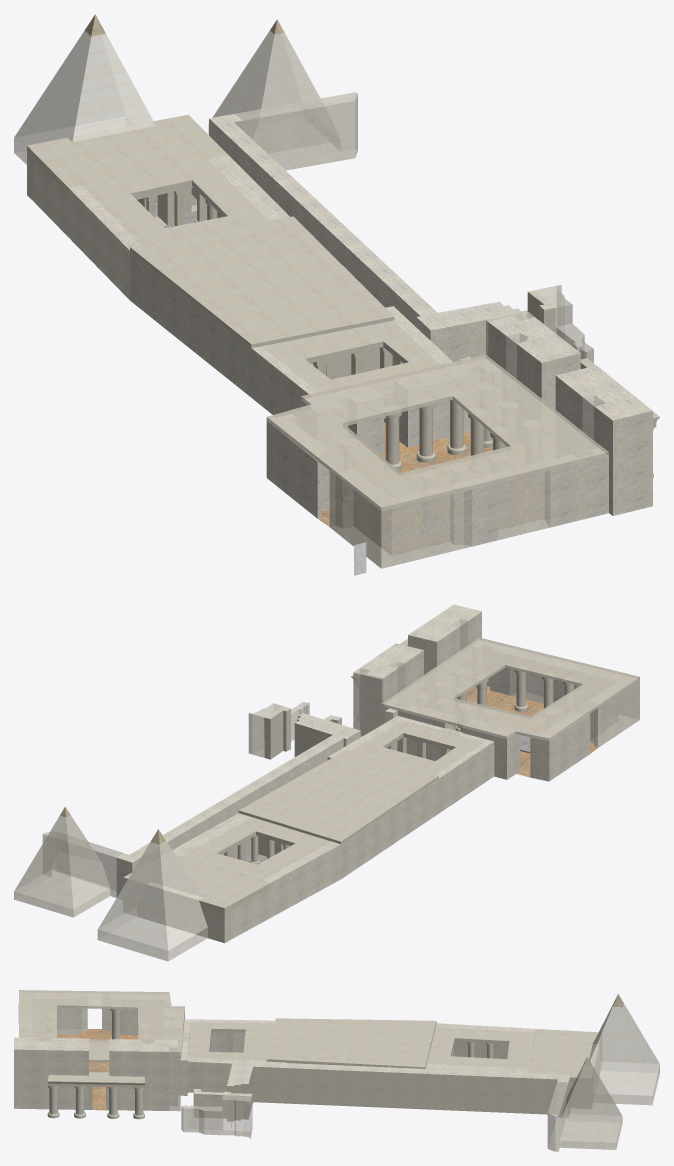
The picture shows the model from 3 angles, top to bottom: view 1: azimuth 30°, elevation 25°; view 2: azimuth 150°, elevation 25°; view 3: azimuth 270°, elevation 25°; orthographic projection. The views are drawn at different scales.
Visible parts, largest first — view 1: Mesh10 ROOF1 G_219_1 Model, Mesh54 Tomb_211_1 Model, Mesh30 G_219_1 Model, Mesh51 Roof_211_1 Tomb_211_1 Model, Mesh56 Model, Mesh37 UNKNOWN1 Tomb_211_1 Model, Mesh11 ROOF1 G_219_1 Model, Mesh39 UNKNOWN1 Tomb_211_1 Model, Mesh55 Model, Mesh58 Model, Mesh44 Round_Column_1_8 Tomb_211_1 Model, Mesh57 Model (+2 smaller); view 2: Mesh30 G_219_1 Model, Mesh10 ROOF1 G_219_1 Model, Mesh54 Tomb_211_1 Model, Mesh56 Model, Mesh51 Roof_211_1 Tomb_211_1 Model, Mesh11 ROOF1 G_219_1 Model, Mesh37 UNKNOWN1 Tomb_211_1 Model, Mesh55 Model, Mesh38 UNKNOWN1 Tomb_211_1 Model, Mesh39 UNKNOWN1 Tomb_211_1 Model, Mesh58 Model, Mesh57 Model; view 3: Mesh56 Model, Mesh10 ROOF1 G_219_1 Model, Mesh54 Tomb_211_1 Model, Mesh30 G_219_1 Model, Mesh51 Roof_211_1 Tomb_211_1 Model, Mesh11 ROOF1 G_219_1 Model, Mesh55 Model, Mesh37 UNKNOWN1 Tomb_211_1 Model, Mesh38 UNKNOWN1 Tomb_211_1 Model, Mesh58 Model, Mesh49 Round_Column_1_13 Tomb_211_1 Model, Mesh53 Round_Column_1_16 Tomb_211_1 Model (+4 smaller).
Boxes of the visible parts, bbox=[...] form: Mesh10 ROOF1 G_219_1 Model: bbox=[82, 159, 439, 392]; Mesh54 Tomb_211_1 Model: bbox=[266, 316, 659, 563]; Mesh30 G_219_1 Model: bbox=[14, 14, 452, 438]; Mesh51 Roof_211_1 Tomb_211_1 Model: bbox=[266, 355, 608, 511]; Mesh56 Model: bbox=[208, 19, 520, 361]; Mesh37 UNKNOWN1 Tomb_211_1 Model: bbox=[329, 469, 472, 568]; Mesh11 ROOF1 G_219_1 Model: bbox=[27, 114, 228, 194]; Mesh39 UNKNOWN1 Tomb_211_1 Model: bbox=[488, 469, 550, 540]; Mesh55 Model: bbox=[527, 285, 593, 363]; Mesh58 Model: bbox=[68, 185, 139, 250]; Mesh44 Round_Column_1_8 Tomb_211_1 Model: bbox=[416, 398, 435, 462]; Mesh57 Model: bbox=[207, 155, 289, 220]; Mesh30 G_219_1 Model: bbox=[97, 716, 494, 961]; Mesh10 ROOF1 G_219_1 Model: bbox=[182, 721, 483, 880]; Mesh54 Tomb_211_1 Model: bbox=[351, 604, 629, 781]; Mesh56 Model: bbox=[14, 713, 360, 917]; Mesh51 Roof_211_1 Tomb_211_1 Model: bbox=[382, 637, 639, 740]; Mesh11 ROOF1 G_219_1 Model: bbox=[123, 853, 270, 913]; Mesh37 UNKNOWN1 Tomb_211_1 Model: bbox=[576, 664, 639, 747]; Mesh55 Model: bbox=[248, 702, 309, 759]; Mesh38 UNKNOWN1 Tomb_211_1 Model: bbox=[353, 668, 387, 736]; Mesh39 UNKNOWN1 Tomb_211_1 Model: bbox=[510, 651, 556, 703]; Mesh58 Model: bbox=[263, 842, 340, 882]; Mesh57 Model: bbox=[169, 813, 251, 856]; Mesh56 Model: bbox=[193, 1057, 622, 1151]; Mesh10 ROOF1 G_219_1 Model: bbox=[188, 1018, 535, 1068]; Mesh54 Tomb_211_1 Model: bbox=[14, 994, 187, 1110]; Mesh30 G_219_1 Model: bbox=[181, 994, 659, 1108]; Mesh51 Roof_211_1 Tomb_211_1 Model: bbox=[19, 990, 184, 1062]; Mesh11 ROOF1 G_219_1 Model: bbox=[528, 1029, 601, 1082]; Mesh55 Model: bbox=[181, 1091, 252, 1138]; Mesh37 UNKNOWN1 Tomb_211_1 Model: bbox=[19, 992, 87, 1034]; Mesh38 UNKNOWN1 Tomb_211_1 Model: bbox=[169, 1039, 180, 1111]; Mesh58 Model: bbox=[436, 1023, 536, 1032]; Mesh49 Round_Column_1_13 Tomb_211_1 Model: bbox=[110, 1004, 121, 1039]; Mesh53 Round_Column_1_16 Tomb_211_1 Model: bbox=[74, 1086, 85, 1118].
Bounding box in the file's own units: 24 × 7.95 × 49.49.
Materials: 14 (13 with a texture image).
